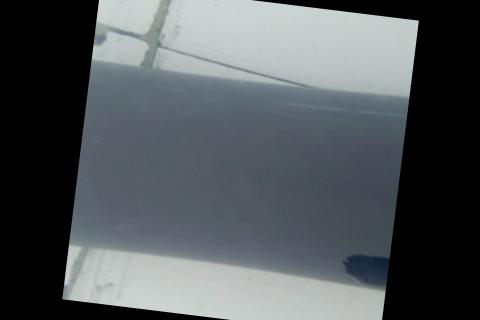kebocoran: (338, 249, 389, 289)
